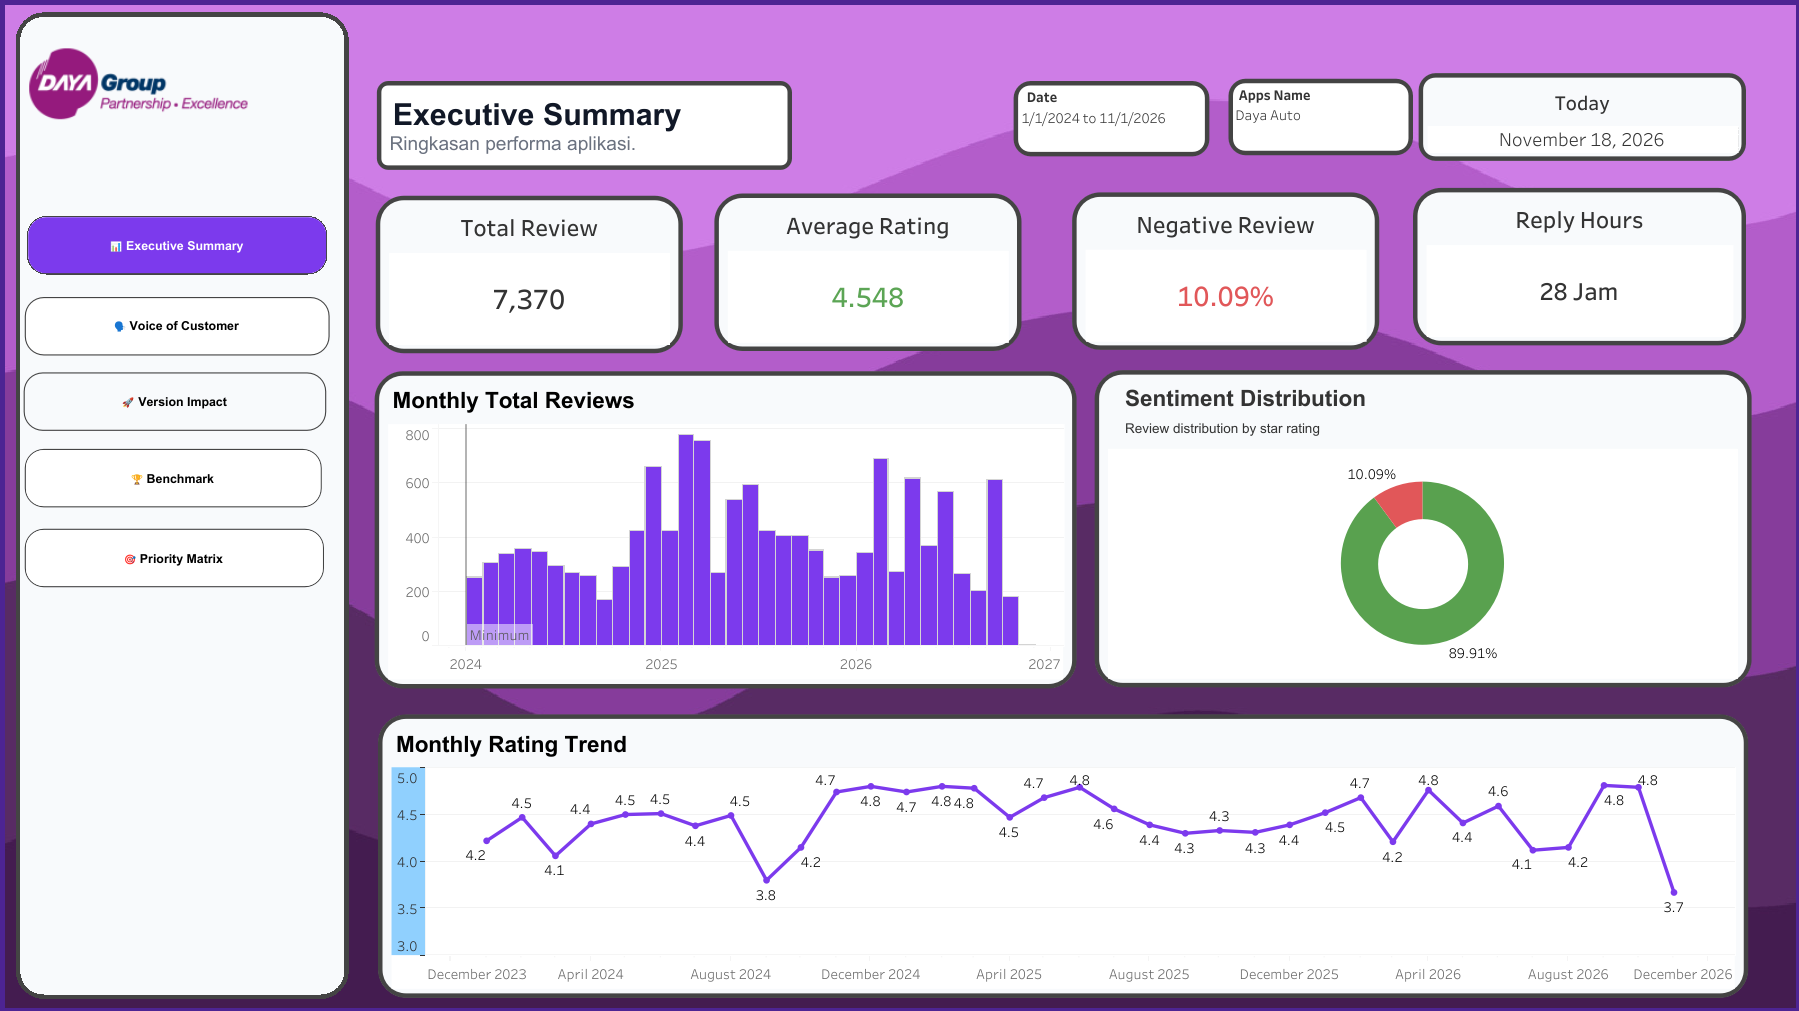

Layout of this report page (visuals, bound fields, positions):
{"tool":"tableau","page":{"name":"Executive Summary","canvas":[1600,900],"ordinal":1},"visuals":[{"type":"legend","title":"Donut Chart fIX","param":"[federated.1ne9uls14glvxb198g2bg04afmw0].[:Measure Names]","box":[8,8,1584,72]},{"type":"image","param":"C:/Users/hp/Downloads/LOGO-DAYA-GROUP-WEBSITE.png","box":[25.6,42.8,272,63]},{"type":"filter","title":"Line Chart","param":"[federated.1ne9uls14glvxb198g2bg04afmw0].[none:app_name:nk]","box":[1096,68,153,73]},{"type":"worksheet","title":"Today Card","mark":"Automatic","box":[1265,69,283,70]},{"type":"text","box":[335,72,329,68]},{"type":"filter","title":"Line Chart","param":"[federated.1ne9uls14glvxb198g2bg04afmw0].[none:review_month:qk]","box":[901,72,174,63]},{"type":"worksheet","title":"Repply Card","mark":"Automatic","box":[1260,171,288,132]},{"type":"worksheet","title":"Ulasan Negatif Card","mark":"Automatic","box":[957,175,265,132]},{"type":"worksheet","title":"Average Rating Card ","mark":"Automatic","box":[639,176,265,132]},{"type":"worksheet","title":"Total Ulasan","mark":"Automatic","box":[338,178,265,132]},{"type":"dashboard-object","box":[24,192.4,267.2,51.7]},{"type":"dashboard-object","box":[22.4,264.4,270.4,51.7]},{"type":"dashboard-object","box":[20.8,330.8,268.8,51.7]},{"type":"worksheet","title":"Donut Chart fIX","mark":"Automatic","rows":["Calculation_0900563131899904","Calculation_0900563131899904"],"box":[976.8,332.5,576,274.4]},{"type":"worksheet","title":"Bar Chart","mark":"Bar","rows":["n_reviews"],"cols":["review_month"],"box":[336.8,333.6,616,274.4]},{"type":"dashboard-object","box":[22.4,399.4,264,51.7]},{"type":"dashboard-object","box":[22.4,470.2,265.6,51.7]},{"type":"worksheet","title":"Line Chart","mark":"Automatic","rows":["Calculation_0269718123732992"],"cols":["review_month"],"box":[340,639,1210,244]}]}

Visuals, with their boxes in screenshot pixels (x1, y1, x2, y2), scaled from the page's 1600x900 canvas onto the 1799x1011 screenshot:
"Donut Chart fIX" legend: l=9, t=9, r=1790, b=90
image: l=29, t=48, r=335, b=119
"Line Chart" filter: l=1232, t=76, r=1404, b=158
"Today Card" worksheet: l=1422, t=78, r=1741, b=156
text: l=377, t=81, r=747, b=157
"Line Chart" filter: l=1013, t=81, r=1209, b=152
"Repply Card" worksheet: l=1417, t=192, r=1741, b=340
"Ulasan Negatif Card" worksheet: l=1076, t=197, r=1374, b=345
"Average Rating Card " worksheet: l=718, t=198, r=1016, b=346
"Total Ulasan" worksheet: l=380, t=200, r=678, b=348
dashboard-object: l=27, t=216, r=327, b=274
dashboard-object: l=25, t=297, r=329, b=355
dashboard-object: l=23, t=372, r=326, b=430
"Donut Chart fIX" worksheet: l=1098, t=374, r=1746, b=682
"Bar Chart" worksheet (Bar marks): l=379, t=375, r=1071, b=683
dashboard-object: l=25, t=449, r=322, b=507
dashboard-object: l=25, t=528, r=324, b=586
"Line Chart" worksheet: l=382, t=718, r=1743, b=992
